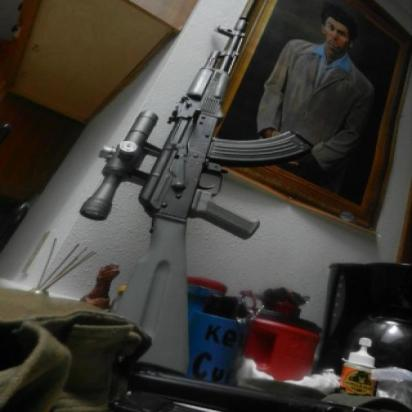Gun: (72, 2, 308, 379)
